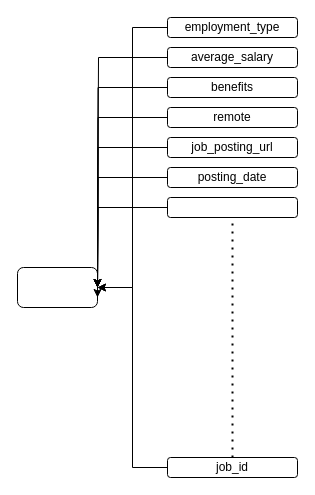
This 315x495 diagram has some shape labels left out. The centre of each missing label's shape, as x and y in pixels:
"closing_date" belongs at (x=232, y=207).
"id" belongs at (x=57, y=287).
